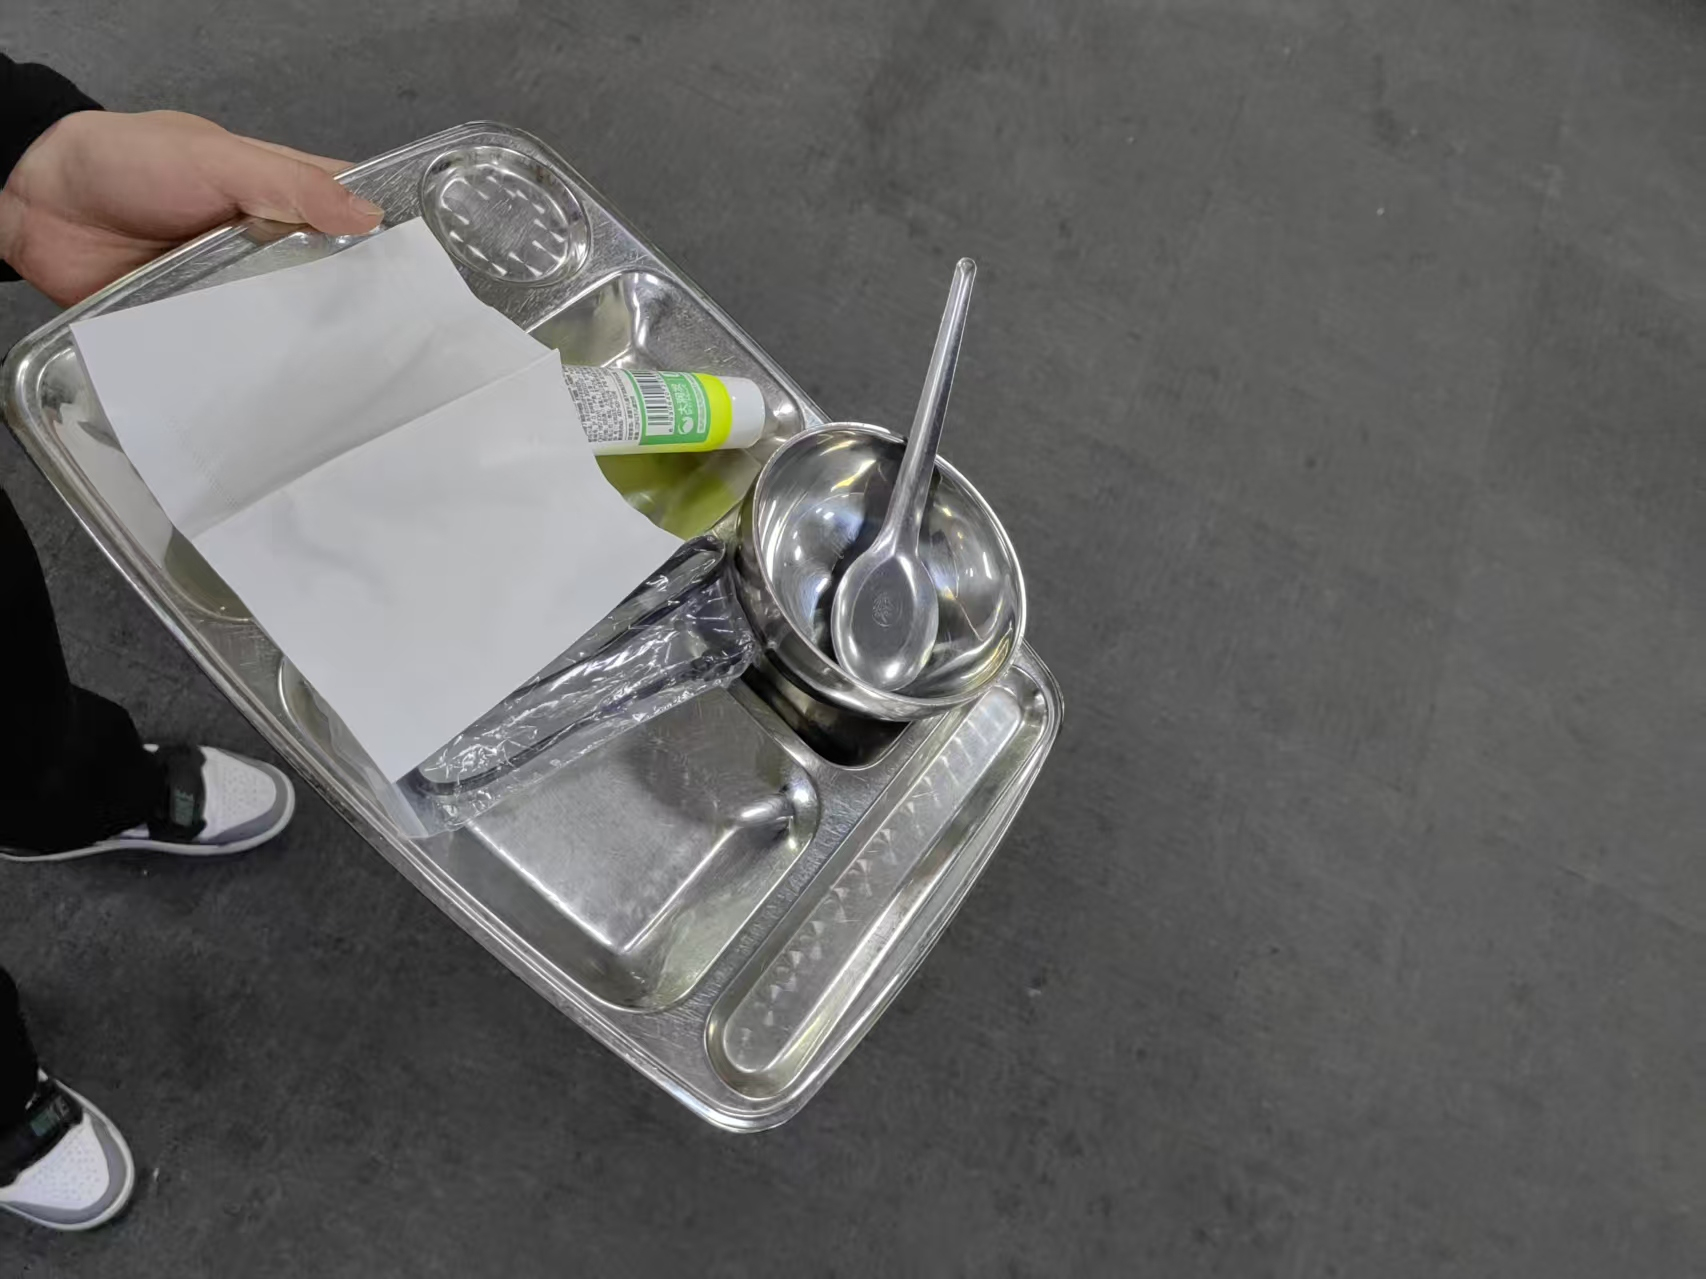mild: (319, 360, 769, 821)
plate: (5, 118, 1069, 1132)
tissue: (64, 210, 686, 782)
